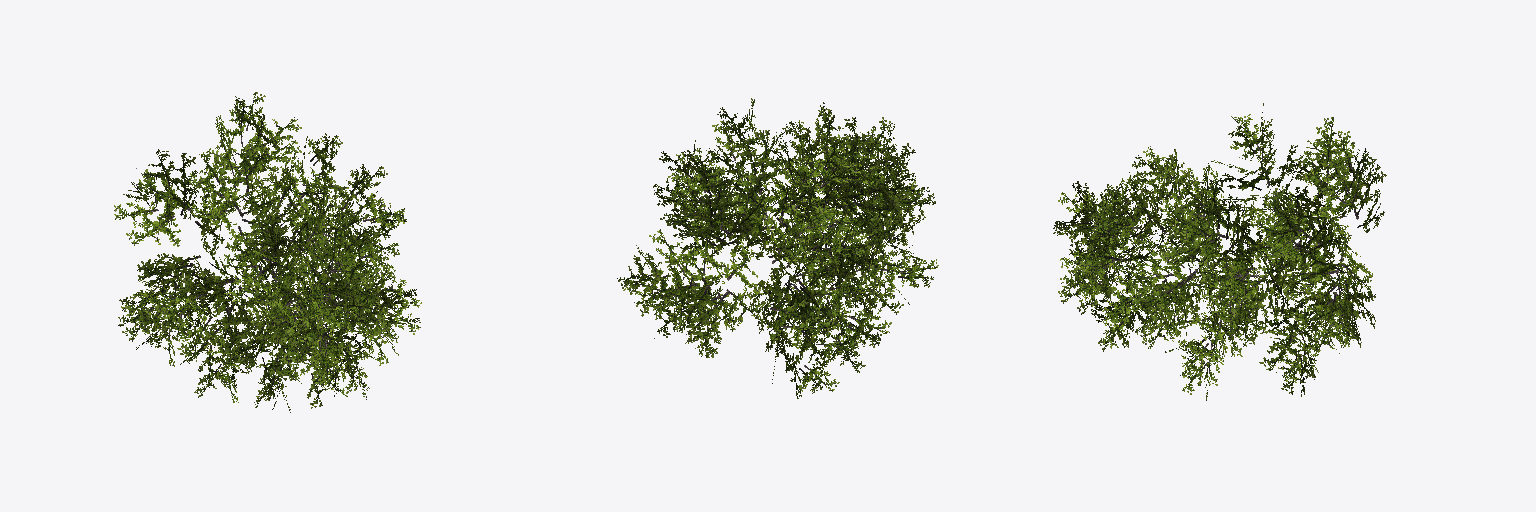
3 views of the same model, side by side, from view 1: azimuth 30°, elevation 25°; view 2: azimuth 150°, elevation 25°; view 3: azimuth 270°, elevation 25° (orthographic).
Parts seen in each view (by area): view 1: LowPolyTree_Default_OBJ_0; view 2: LowPolyTree_Default_OBJ_0; view 3: LowPolyTree_Default_OBJ_0.
Part boxes in pixels (x1,y1,x2,y2): LowPolyTree_Default_OBJ_0: (114,92,421,412); LowPolyTree_Default_OBJ_0: (617,98,938,398); LowPolyTree_Default_OBJ_0: (1053,103,1386,400).
Size of the model in its own units: 980 by 940 by 1457.
Materials: 2 (1 with a texture image).